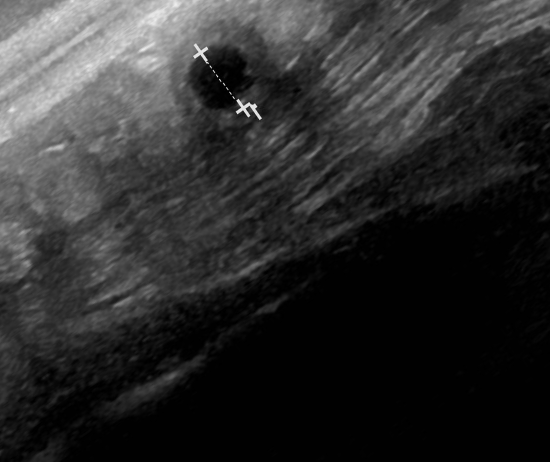Benign: (180, 37, 261, 121)
